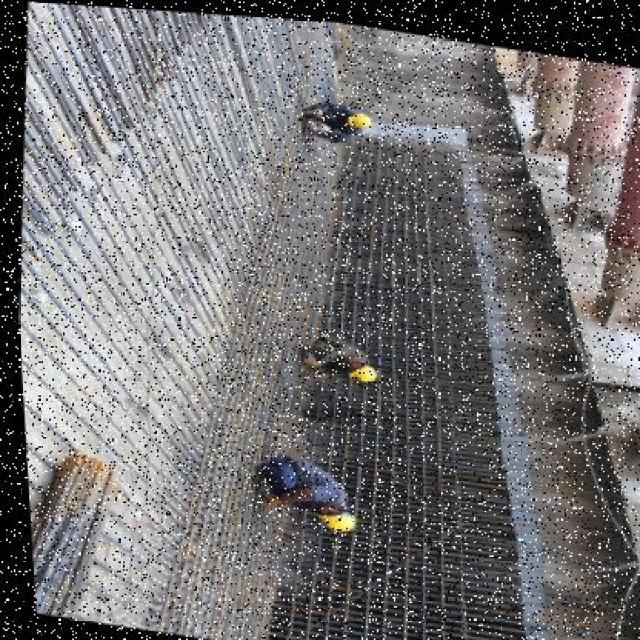helmet: (308, 506, 354, 530), (342, 100, 376, 130), (340, 357, 376, 383)
